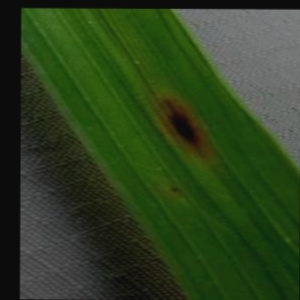Bacterial_Leaf_Blight: (147, 89, 223, 164), (162, 181, 188, 196)
